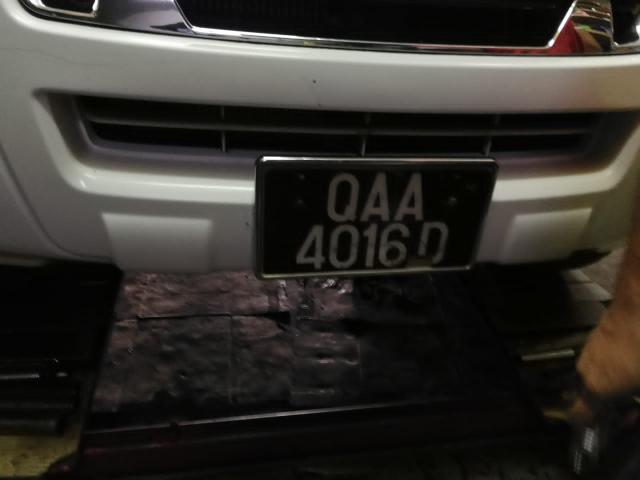License_Plate: (259, 156, 500, 279)
car: (1, 2, 640, 305)
